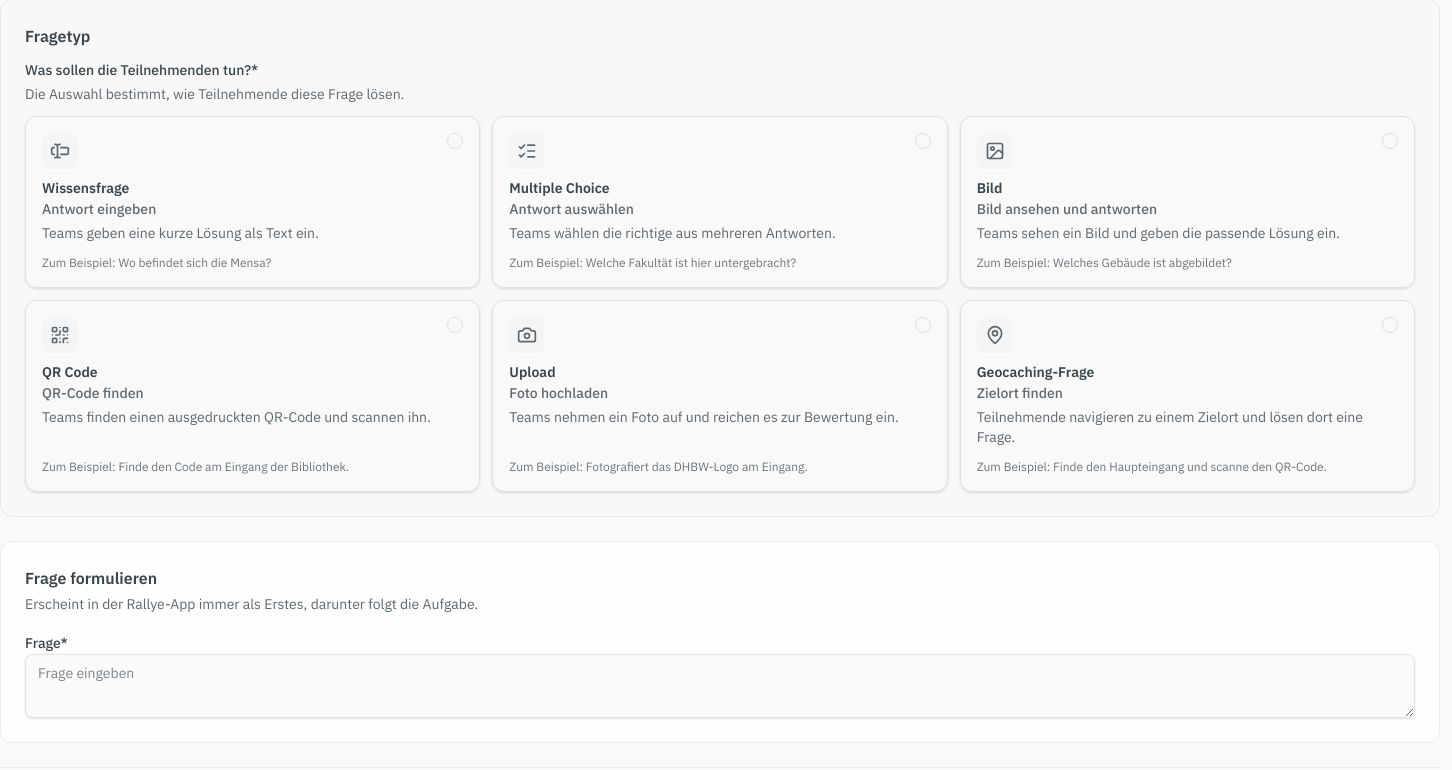
Test: QuestionForm › starts a new multiple-choice question with two empty solution options
Click the 2nd radio button named "Antwort auswählen": (923, 141) [915,133,931,149]
(page scrolled)
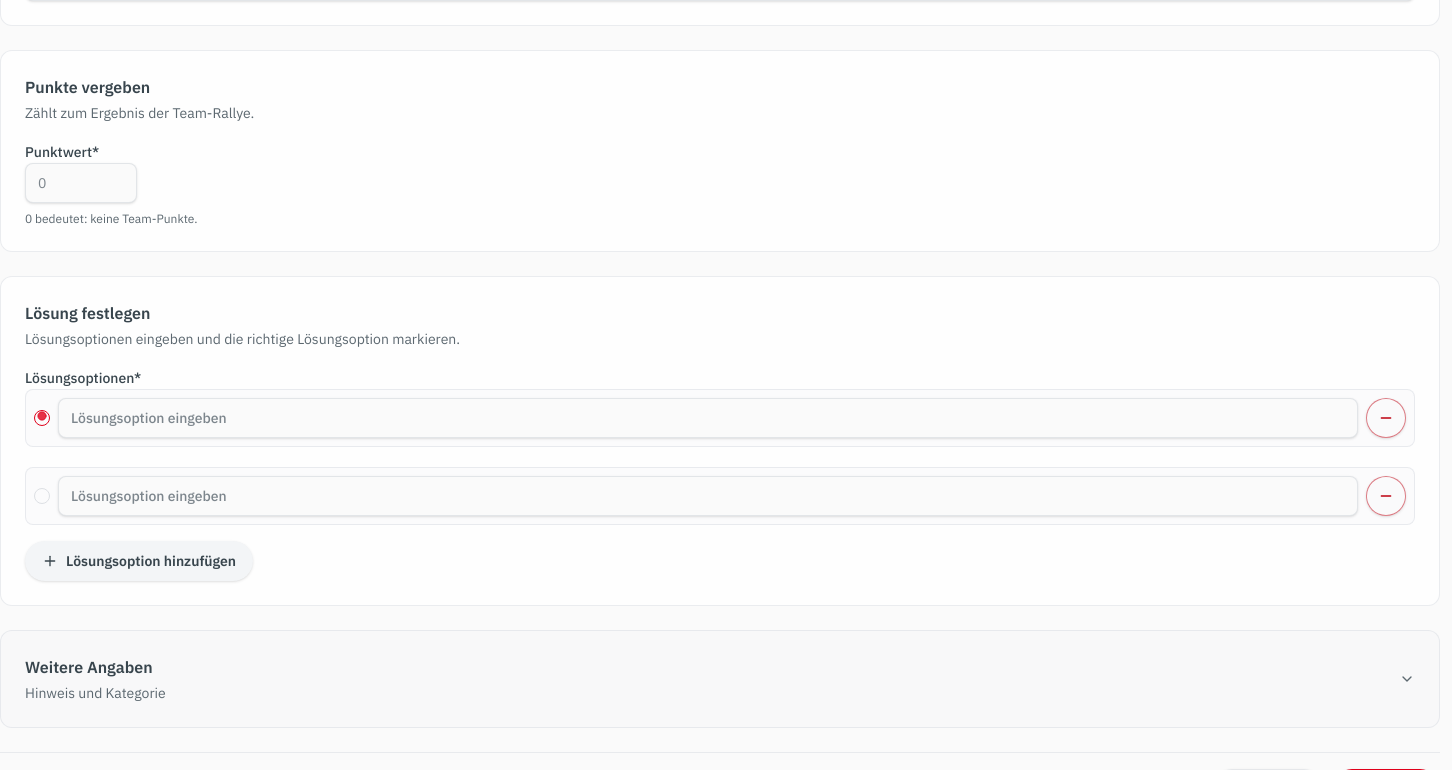
Expected: the number of fields with placeholder "Lösungsoption eingeben" is 2, [58,398,1358,438]; [58,476,1358,516]
Expected: the 1st field with placeholder "Lösungsoption eingeben" is empty, [58,398,1358,438]
Expected: the 2nd field with placeholder "Lösungsoption eingeben" is empty, [58,476,1358,516]
